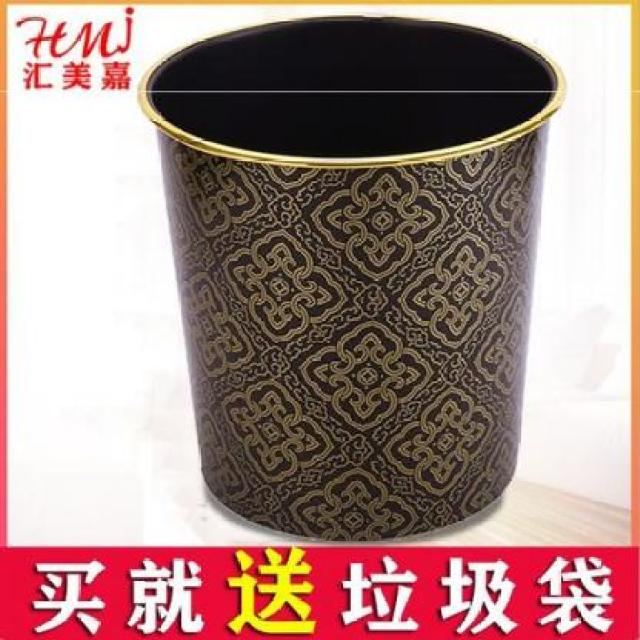dustbin: (132, 9, 574, 543)
